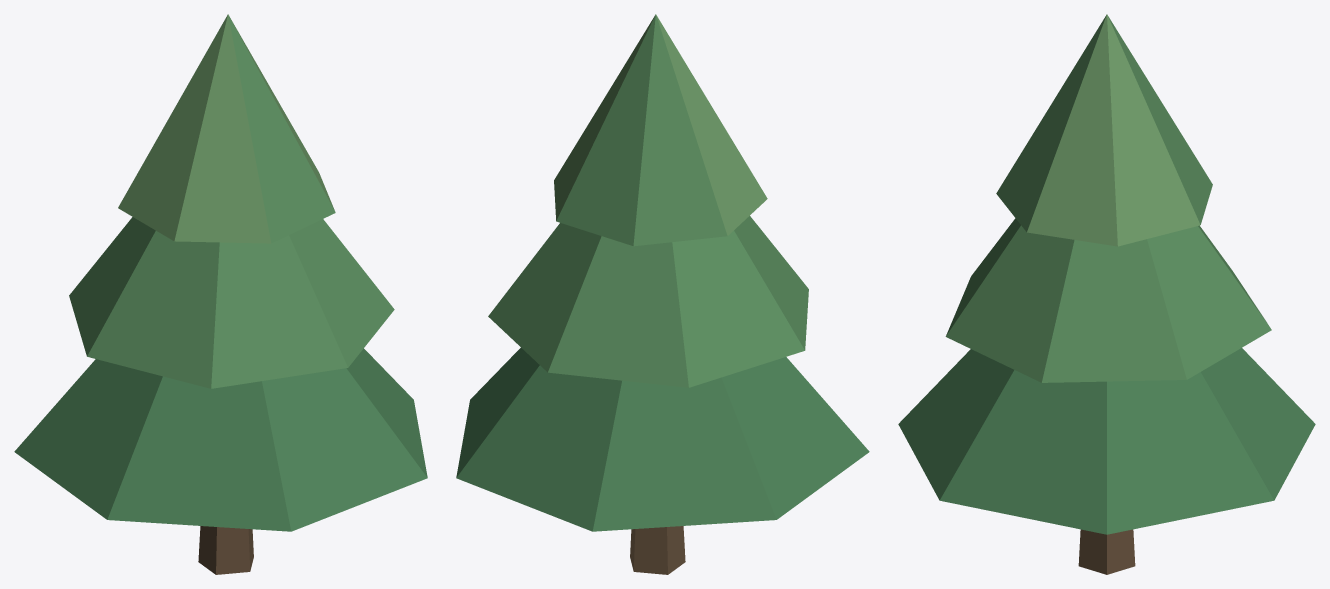
Rendered from low_tree_pine.glb.
3 views of the same model, side by side, from view 1: azimuth 30°, elevation 25°; view 2: azimuth 150°, elevation 25°; view 3: azimuth 270°, elevation 25° (orthographic).
Visible parts, largest first — view 1: low_tree_pine; view 2: low_tree_pine; view 3: low_tree_pine.
Part boxes in pixels (x1=…): low_tree_pine: x1=14, y1=14, x2=427, y2=574; low_tree_pine: x1=456, y1=14, x2=869, y2=574; low_tree_pine: x1=898, y1=14, x2=1315, y2=574.
Size of the model in its own units: 2.19 by 3.25 by 2.24.
